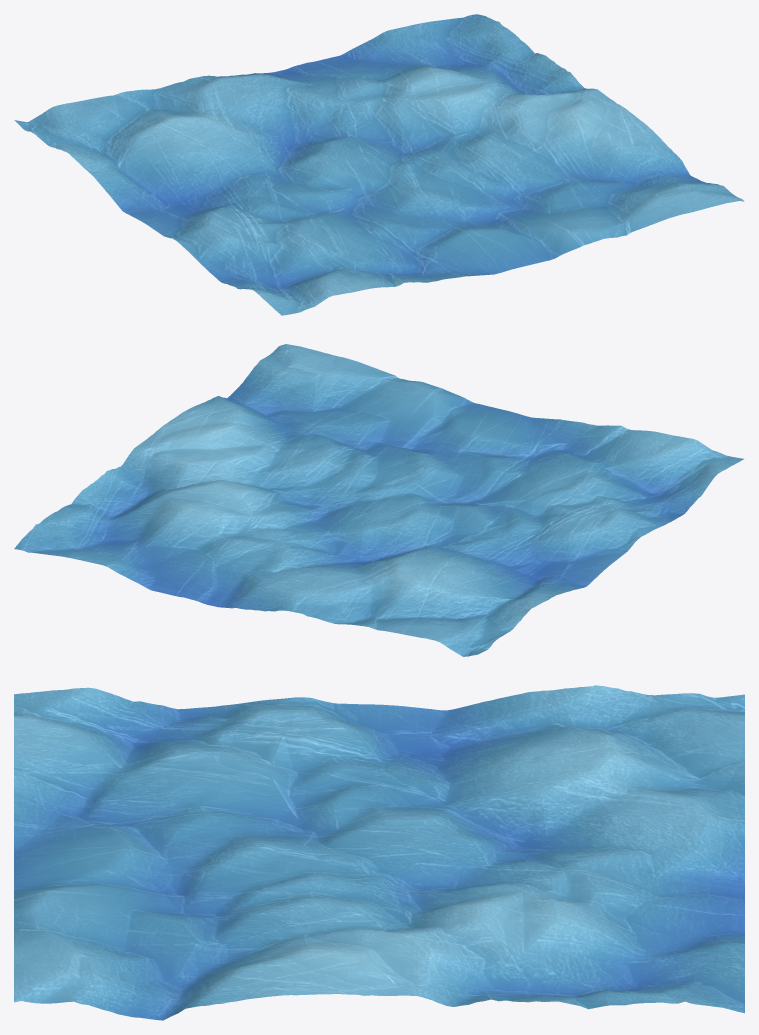
File: environment_ice.glb
3 views of the same model, one above another, from view 1: azimuth 30°, elevation 25°; view 2: azimuth 150°, elevation 25°; view 3: azimuth 270°, elevation 25° (orthographic). The views are drawn at different scales.
Visible parts, largest first — view 1: Plane; view 2: Plane; view 3: Plane.
Boxes of the visible parts, x1,y1,x2,y2 form: Plane: [14, 14, 744, 315]; Plane: [14, 344, 743, 656]; Plane: [14, 685, 744, 1020].
Size of the model in its own units: 980 by 59.57 by 980.
Materials: 1 (1 with a texture image).
